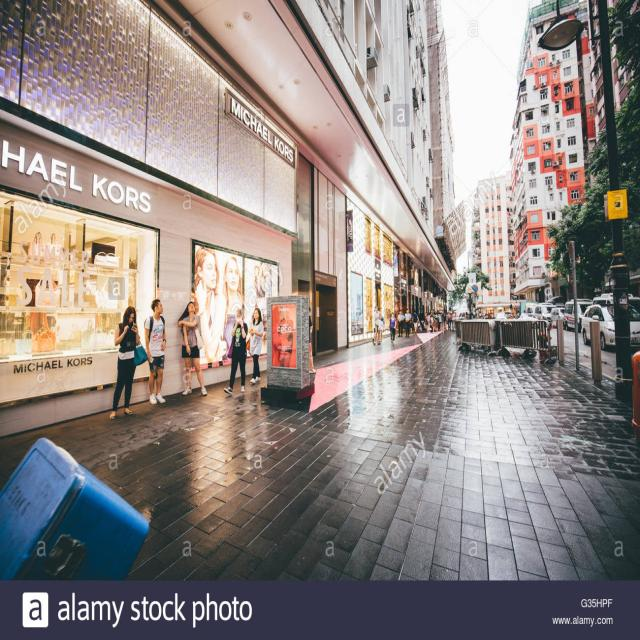body: (195, 244, 295, 367), (108, 304, 148, 420), (176, 300, 208, 396), (144, 298, 167, 406), (420, 309, 521, 333), (223, 307, 248, 395), (248, 307, 264, 384), (308, 306, 317, 374), (373, 304, 381, 346), (376, 312, 385, 344), (388, 312, 397, 344), (403, 308, 412, 338), (411, 309, 420, 334), (396, 310, 404, 338), (373, 308, 379, 343), (429, 314, 438, 334), (393, 247, 398, 276), (408, 311, 413, 334)
